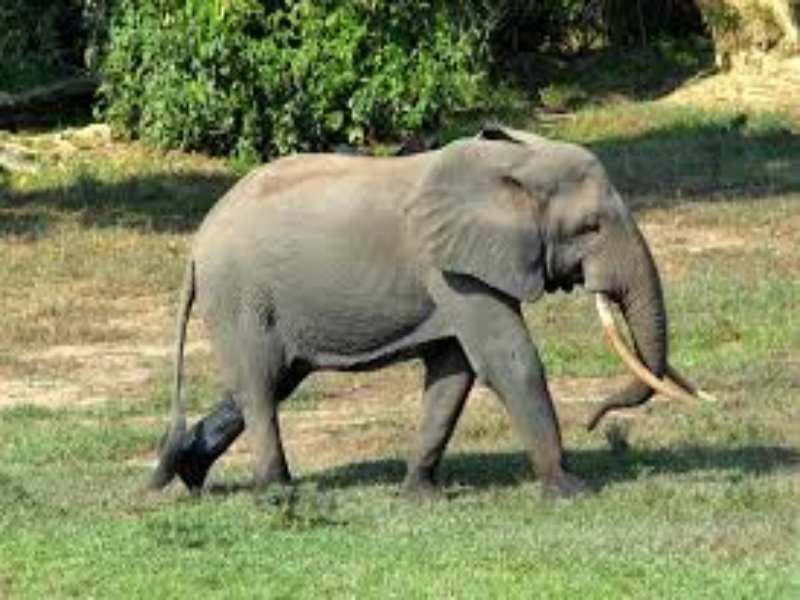elephant: (136, 131, 728, 532)
